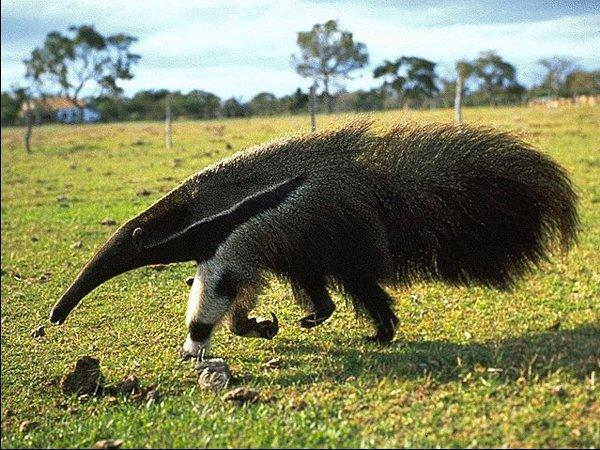TamanduaBandeira: (46, 114, 580, 359)
